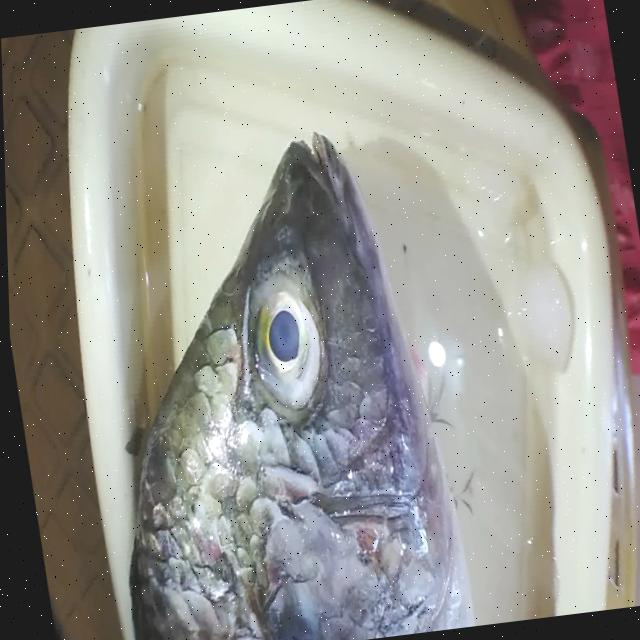Fresh: (225, 261, 343, 436)
